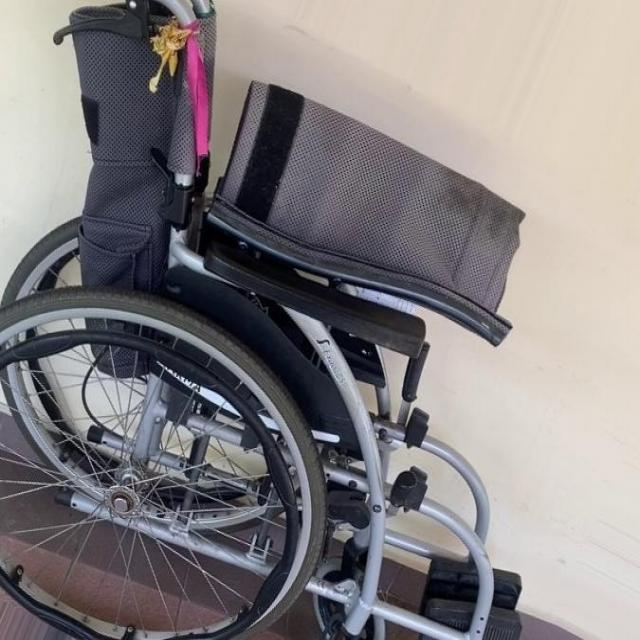wheelchair: (2, 3, 556, 640)
